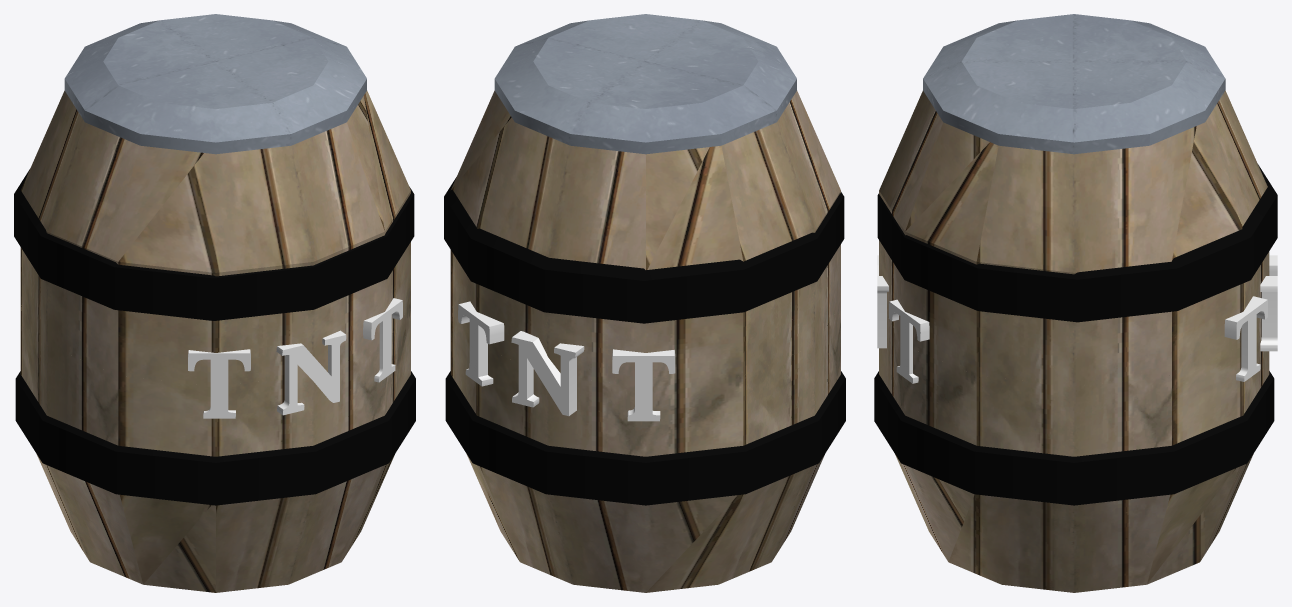
Rendered from Barrel.fbx.
3 views of the same model, side by side, from view 1: azimuth 30°, elevation 25°; view 2: azimuth 150°, elevation 25°; view 3: azimuth 270°, elevation 25° (orthographic).
Parts seen in each view (by area): view 1: mergedBlocks; view 2: mergedBlocks; view 3: mergedBlocks.
Boxes of the visible parts, left/top/right/bottom form: mergedBlocks: left=14, top=14, right=415, bottom=592; mergedBlocks: left=444, top=14, right=845, bottom=592; mergedBlocks: left=874, top=14, right=1277, bottom=592.
Bounding box in the file's own units: 5.74 × 7.44 × 5.79.
4 materials, 2 textured.
